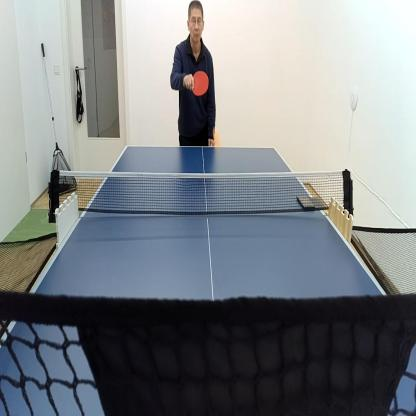Ball: (212, 126, 221, 148)
